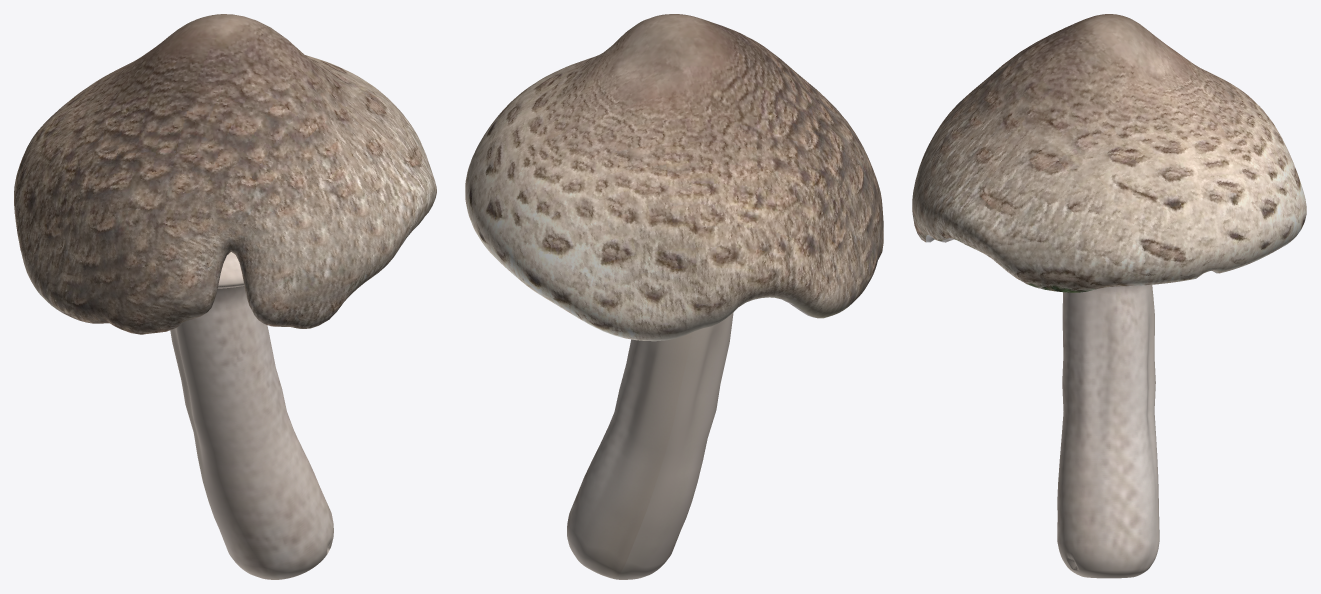
File: SENE_19.fbx
3 views of the same model, side by side, from view 1: azimuth 30°, elevation 25°; view 2: azimuth 150°, elevation 25°; view 3: azimuth 270°, elevation 25° (orthographic). The views are drawn at different scales.
Parts seen in each view (by area): view 1: SENE_19; view 2: SENE_19; view 3: SENE_19.
Boxes of the visible parts, x1,y1,x2,y2 form: SENE_19: (14,14,436,579); SENE_19: (465,14,883,579); SENE_19: (912,14,1306,578).
Size of the model in its own units: 58.67 by 87.59 by 59.06.
Materials: 1 (1 with a texture image).
